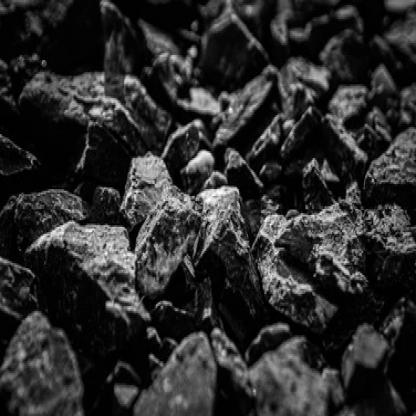Sedimentary_coal: (223, 318, 356, 414), (118, 320, 228, 414), (1, 311, 88, 414), (209, 55, 288, 162), (114, 150, 185, 260), (192, 174, 249, 288), (359, 118, 415, 208)
